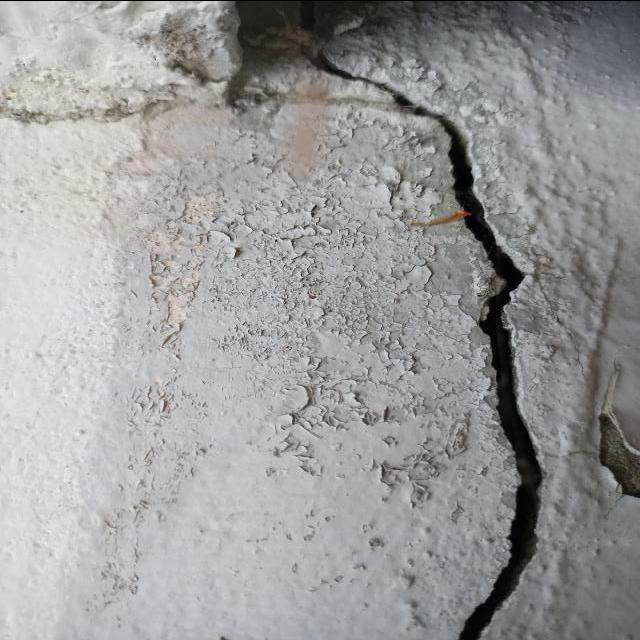SurfaceCrack: (323, 1, 575, 640)
